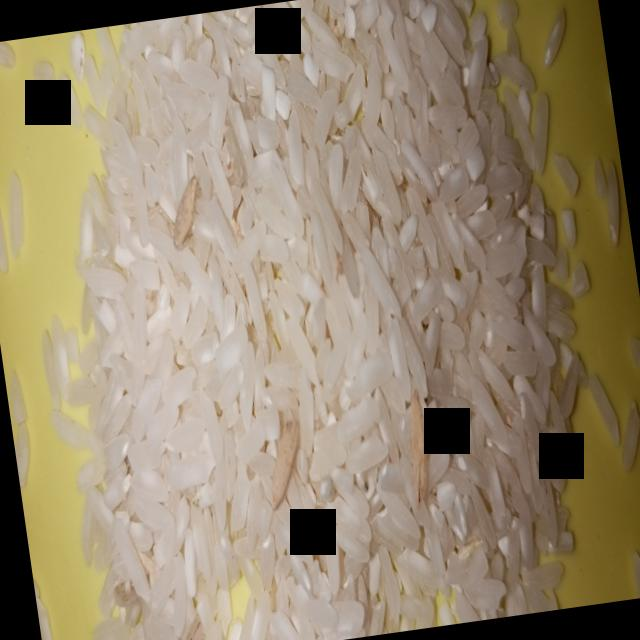Bulir_padi: (256, 412, 312, 512), (162, 162, 214, 256), (400, 388, 438, 508)
